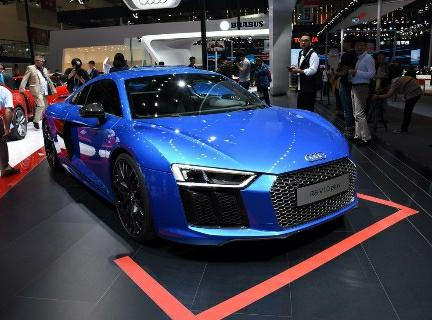car: (32, 61, 361, 252)
